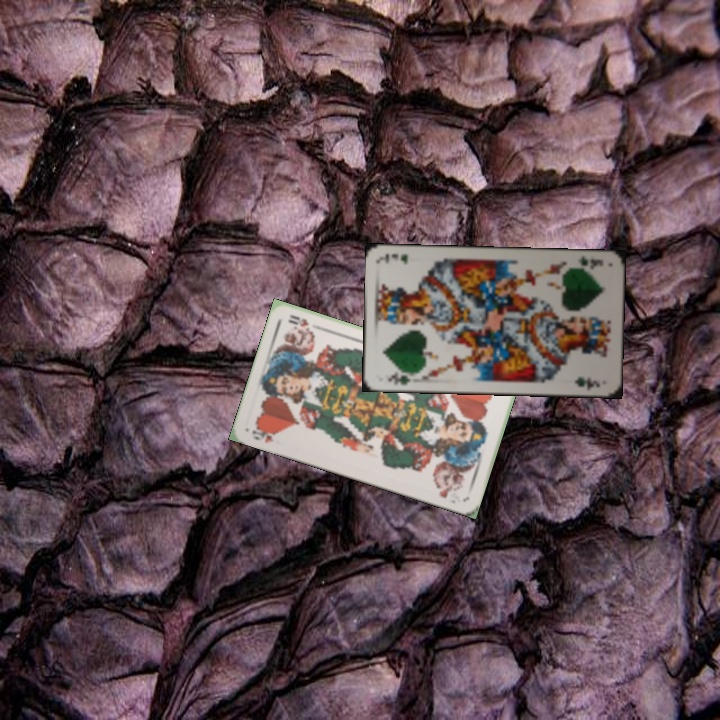GK: (573, 252, 606, 272), (385, 368, 413, 388)
HO: (248, 423, 281, 445)
